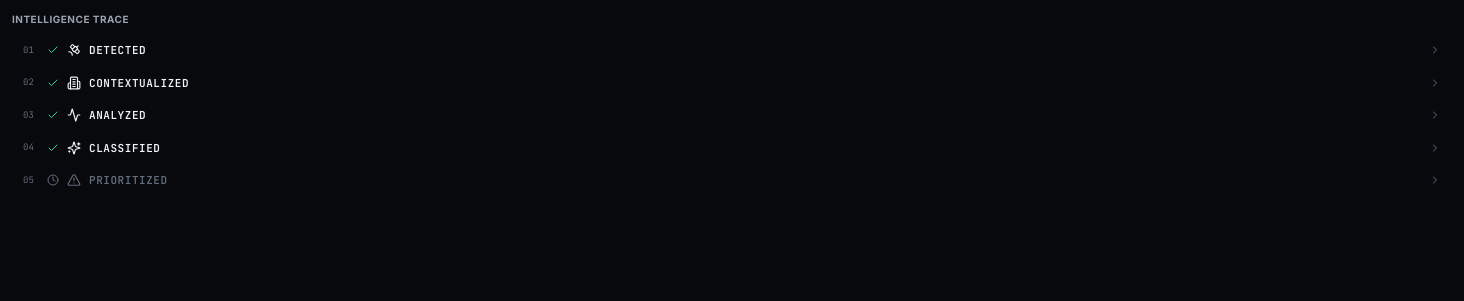
Test case: D6.2 Command Center + GIS Interaction Polish › IntelligencePipelineTrace › should toggle step details when clicked
Expected: the text "NASA FIRMS NRT" is not shown
# Click DETECTED step to expand
Click the button "01 DETECTED" at coordinates (118, 50), box 12,35 -> 1452,66
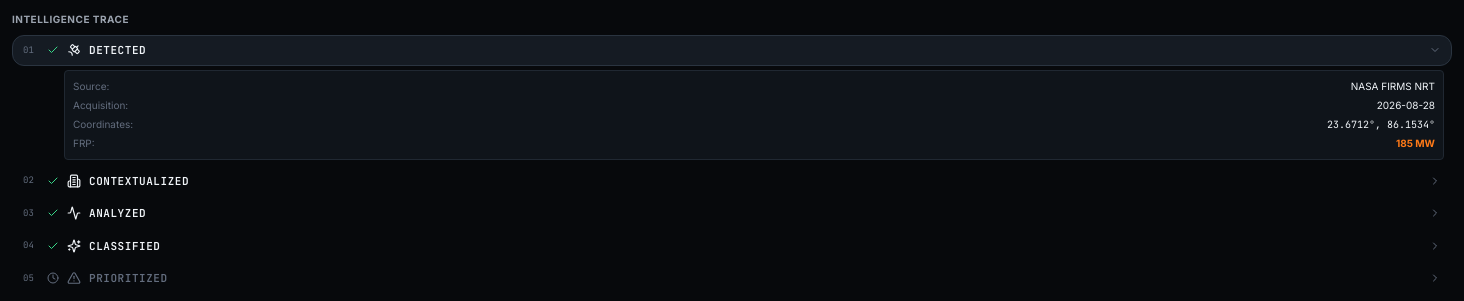
Expected: the text "NASA FIRMS NRT" is shown, 1351,78 -> 1435,94
Expected: the text "185 MW" is shown, 1396,136 -> 1435,150
# Click again to collapse
Click the button "01 DETECTED" at coordinates (118, 50), box 12,35 -> 1452,66
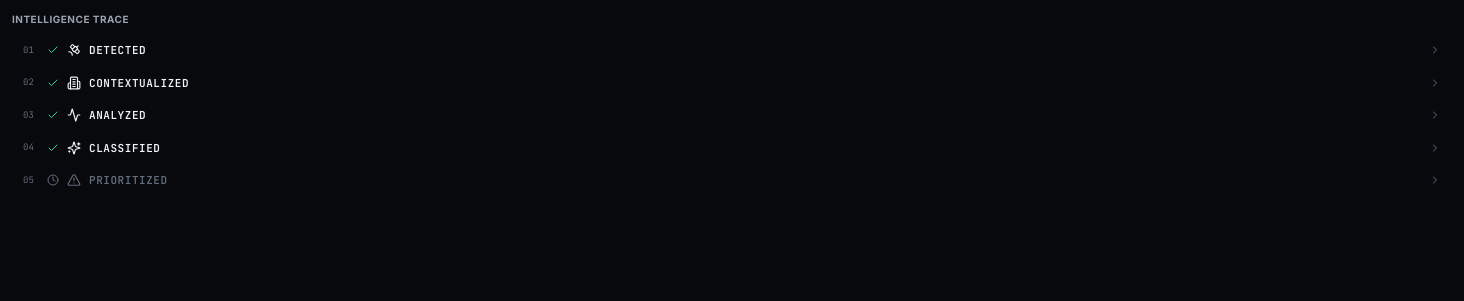
Expected: the text "NASA FIRMS NRT" is gone
